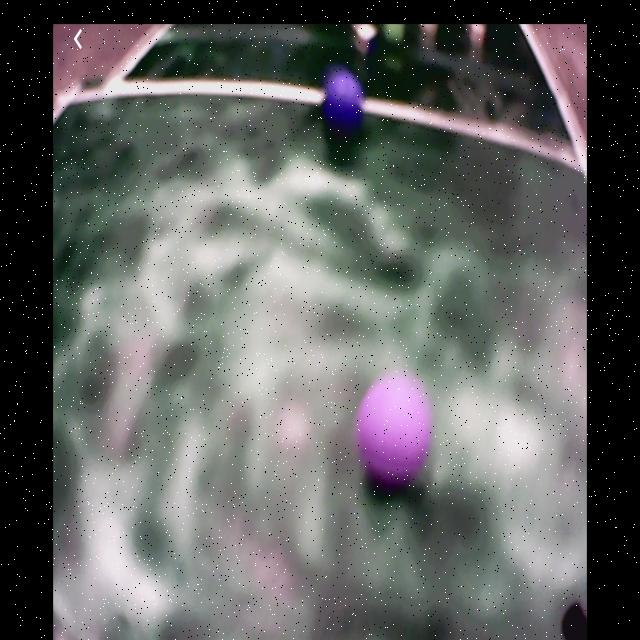ball: (359, 367, 433, 491), (327, 69, 364, 124)
